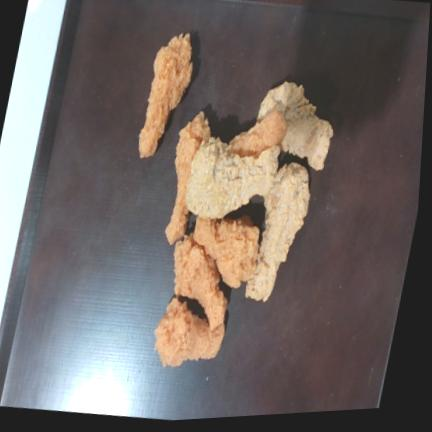chicken: (245, 162, 309, 300), (185, 137, 279, 218), (138, 33, 192, 157), (257, 81, 332, 170), (165, 111, 210, 244), (174, 233, 226, 329), (154, 296, 224, 366), (194, 216, 258, 287), (228, 111, 286, 156)
